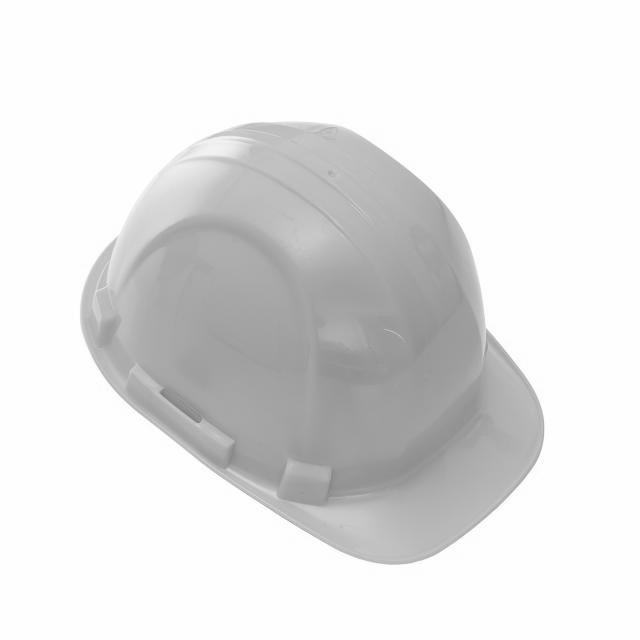safety_helmet: (78, 123, 547, 568)
